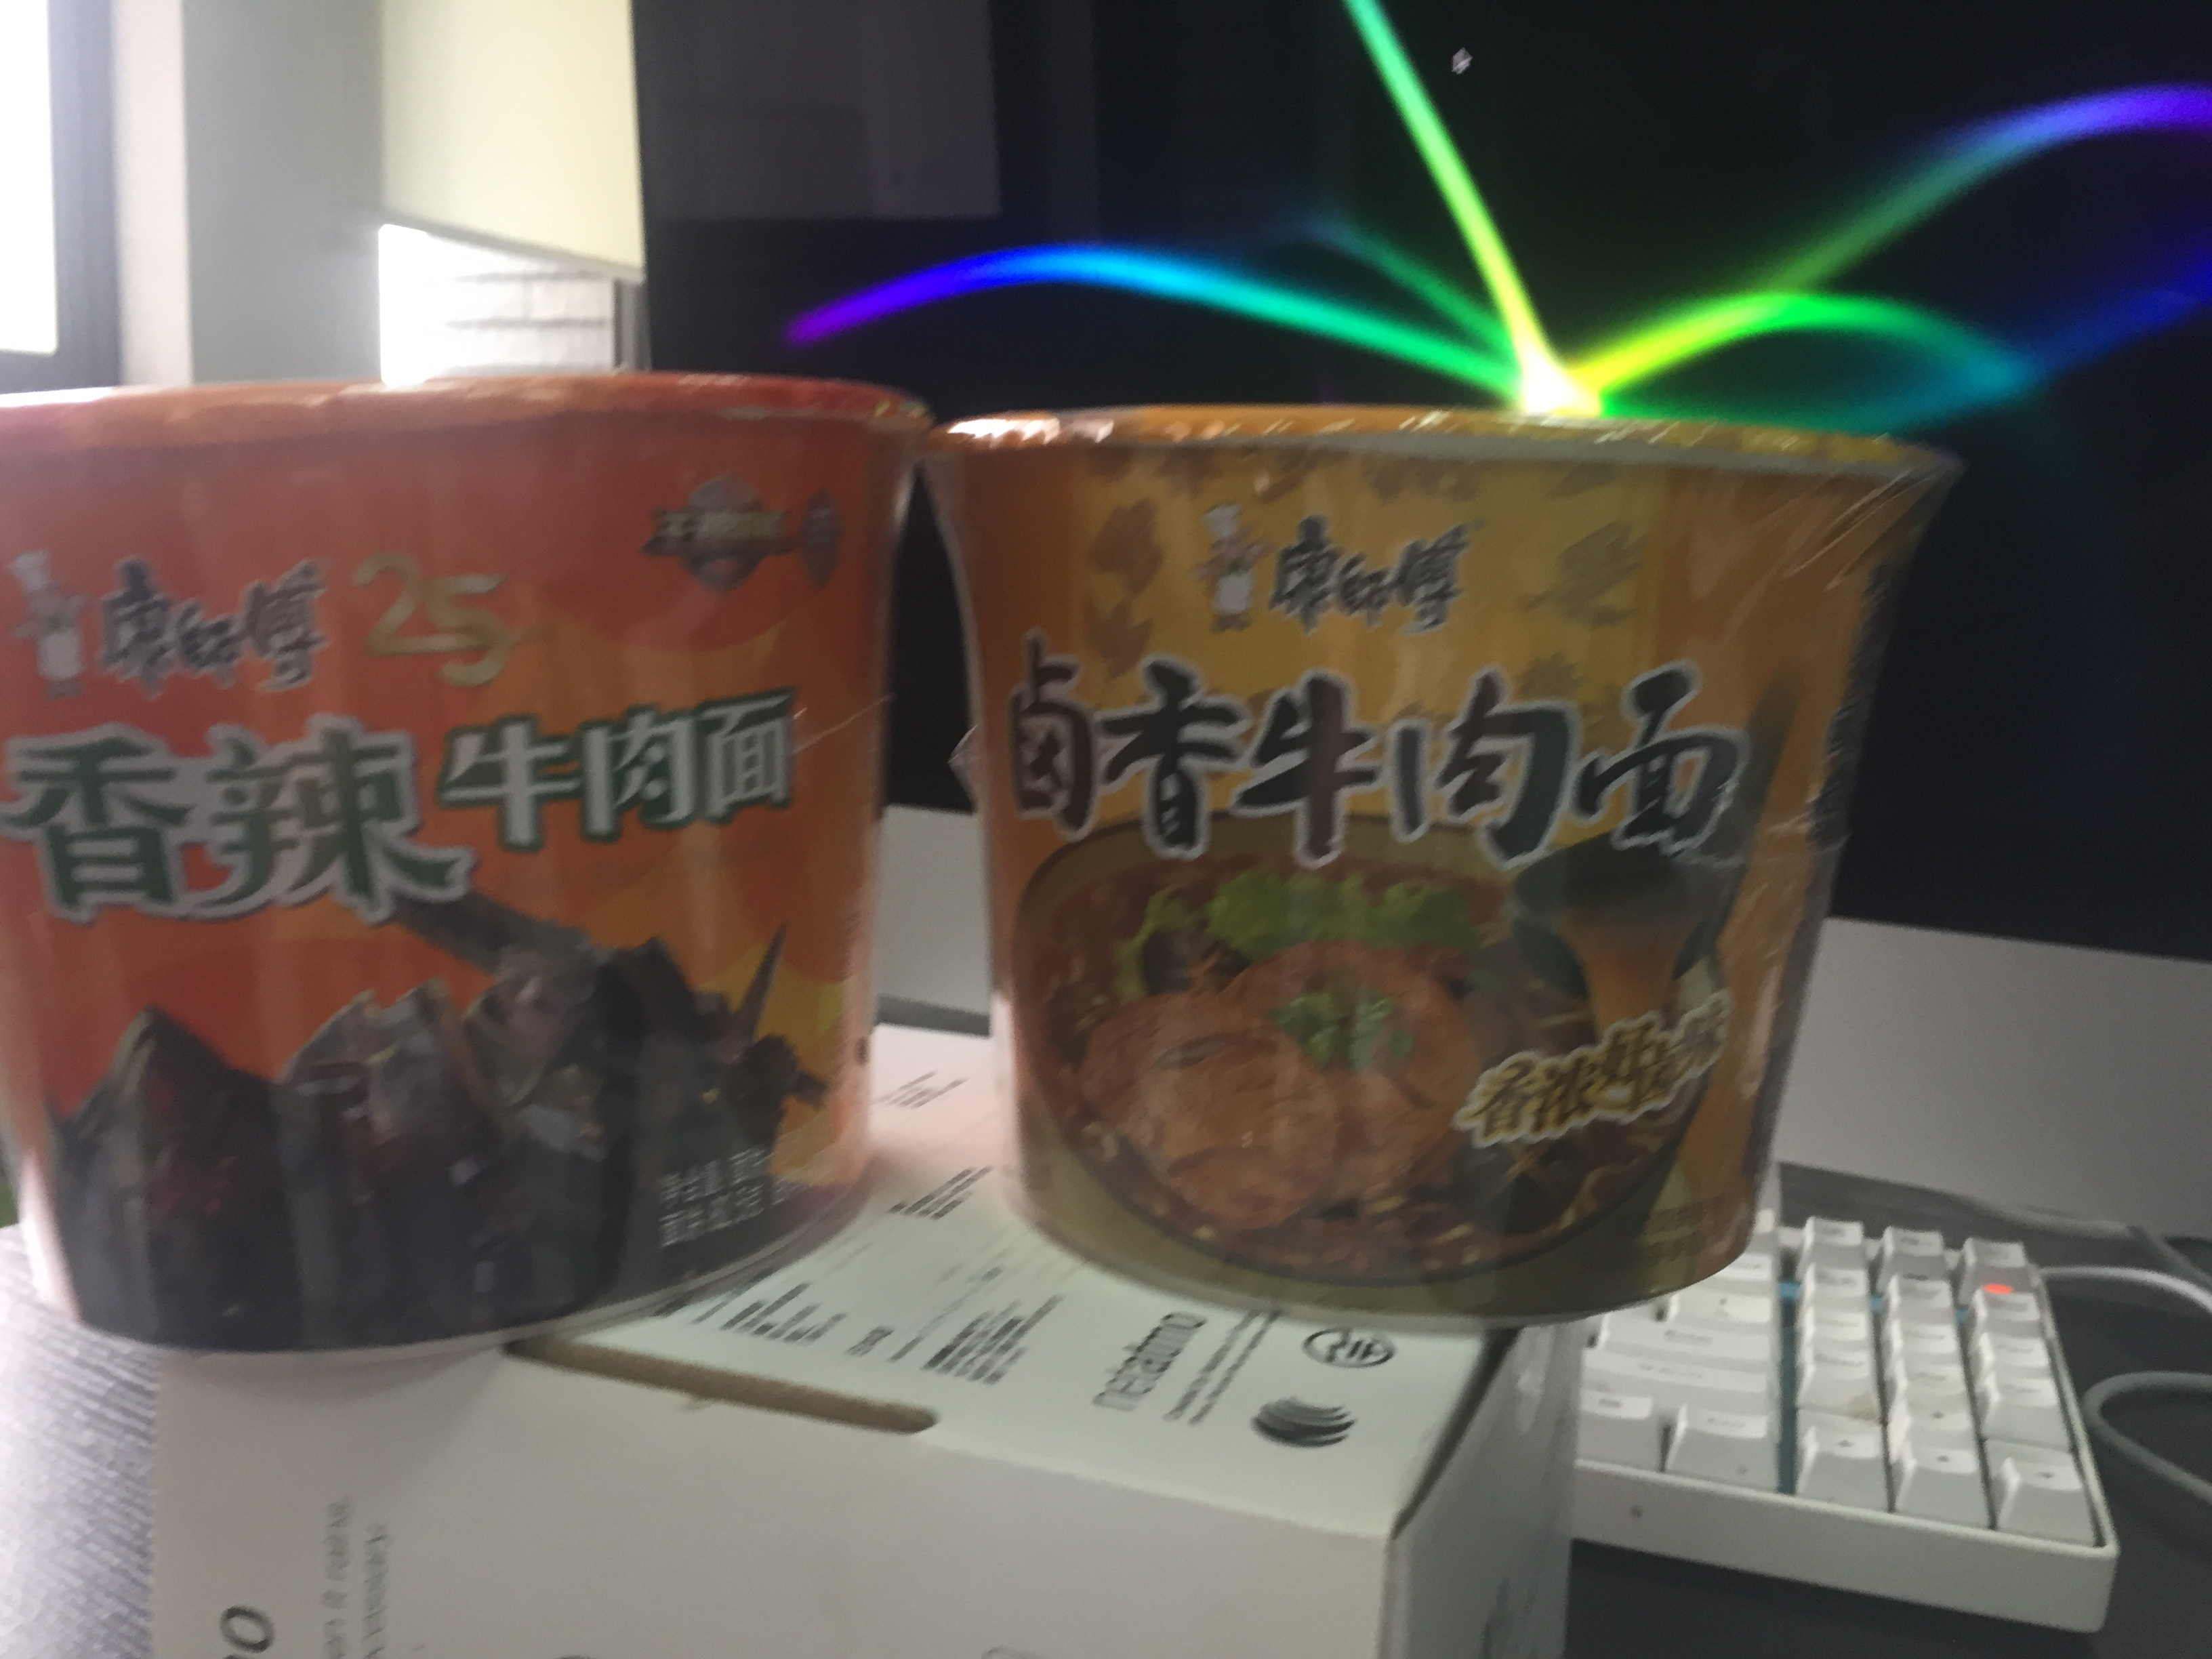luxiang: (914, 406, 1972, 1337)
xiangla: (0, 359, 930, 1373)
